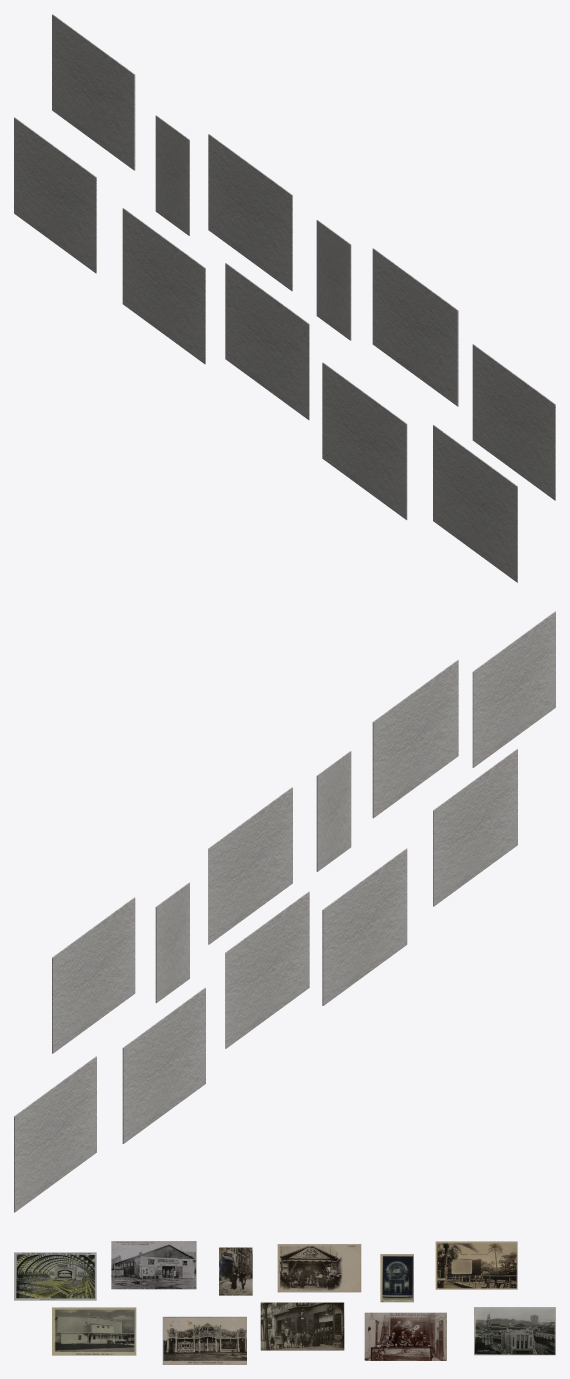
The model's file is Einführung.fbx.
3 renders of one model, top to bottom at view 1: azimuth 30°, elevation 25°; view 2: azimuth 150°, elevation 25°; view 3: azimuth 270°, elevation 25°, orthographic. The views are drawn at different scales.
Visible parts, largest first — view 1: FM.SLG.10.3-8-041_1, FM.SLG.10.3-8-028_1, FM.SLG.10.3-8-078_1, FM.SLG.10.3-8-020_1, FM.SLG.10.3-8-030_1, FM.SLG.10.3-8-032_1, FM.SLG.10.3-8-066_1, FM.SLG.10.3-8-076_1, FM.SLG.10.3-8-083_1, FM.SLG.10.3-8-025_1, FM.SLG.10.3-8-073_1; view 2: FM.SLG.10.3-8-041_1, FM.SLG.10.3-8-028_1, FM.SLG.10.3-8-078_1, FM.SLG.10.3-8-030_1, FM.SLG.10.3-8-020_1, FM.SLG.10.3-8-066_1, FM.SLG.10.3-8-032_1, FM.SLG.10.3-8-076_1, FM.SLG.10.3-8-083_1, FM.SLG.10.3-8-025_1, FM.SLG.10.3-8-073_1; view 3: FM.SLG.10.3-8-041_1, FM.SLG.10.3-8-020_1, FM.SLG.10.3-8-078_1, FM.SLG.10.3-8-028_1, FM.SLG.10.3-8-030_1, FM.SLG.10.3-8-076_1, FM.SLG.10.3-8-066_1, FM.SLG.10.3-8-032_1, FM.SLG.10.3-8-083_1, FM.SLG.10.3-8-025_1, FM.SLG.10.3-8-073_1.
Boxes of the visible parts, <box> form: FM.SLG.10.3-8-041_1: <box>372,248,458,406</box>; FM.SLG.10.3-8-028_1: <box>322,362,407,520</box>; FM.SLG.10.3-8-078_1: <box>433,425,517,582</box>; FM.SLG.10.3-8-020_1: <box>225,263,309,420</box>; FM.SLG.10.3-8-030_1: <box>208,134,292,291</box>; FM.SLG.10.3-8-032_1: <box>122,208,205,364</box>; FM.SLG.10.3-8-066_1: <box>472,344,555,500</box>; FM.SLG.10.3-8-076_1: <box>52,14,135,170</box>; FM.SLG.10.3-8-083_1: <box>14,117,96,273</box>; FM.SLG.10.3-8-025_1: <box>316,220,351,340</box>; FM.SLG.10.3-8-073_1: <box>155,115,189,235</box>; FM.SLG.10.3-8-041_1: <box>372,660,458,818</box>; FM.SLG.10.3-8-028_1: <box>322,848,407,1005</box>; FM.SLG.10.3-8-078_1: <box>433,749,517,906</box>; FM.SLG.10.3-8-030_1: <box>208,787,292,944</box>; FM.SLG.10.3-8-020_1: <box>225,891,309,1048</box>; FM.SLG.10.3-8-066_1: <box>472,611,555,767</box>; FM.SLG.10.3-8-032_1: <box>122,987,205,1143</box>; FM.SLG.10.3-8-076_1: <box>52,897,135,1053</box>; FM.SLG.10.3-8-083_1: <box>14,1056,96,1212</box>; FM.SLG.10.3-8-025_1: <box>316,751,351,871</box>; FM.SLG.10.3-8-073_1: <box>155,882,189,1003</box>; FM.SLG.10.3-8-041_1: <box>111,1241,196,1289</box>; FM.SLG.10.3-8-020_1: <box>260,1302,344,1350</box>; FM.SLG.10.3-8-078_1: <box>52,1307,136,1355</box>; FM.SLG.10.3-8-028_1: <box>162,1316,246,1364</box>; FM.SLG.10.3-8-030_1: <box>277,1244,361,1292</box>; FM.SLG.10.3-8-076_1: <box>435,1241,517,1289</box>; FM.SLG.10.3-8-066_1: <box>14,1252,96,1300</box>; FM.SLG.10.3-8-032_1: <box>364,1312,446,1360</box>; FM.SLG.10.3-8-083_1: <box>474,1307,555,1355</box>; FM.SLG.10.3-8-025_1: <box>219,1247,252,1295</box>; FM.SLG.10.3-8-073_1: <box>380,1254,413,1302</box>.
Bounding box in the file's own units: 1 × 257 × 1021.
